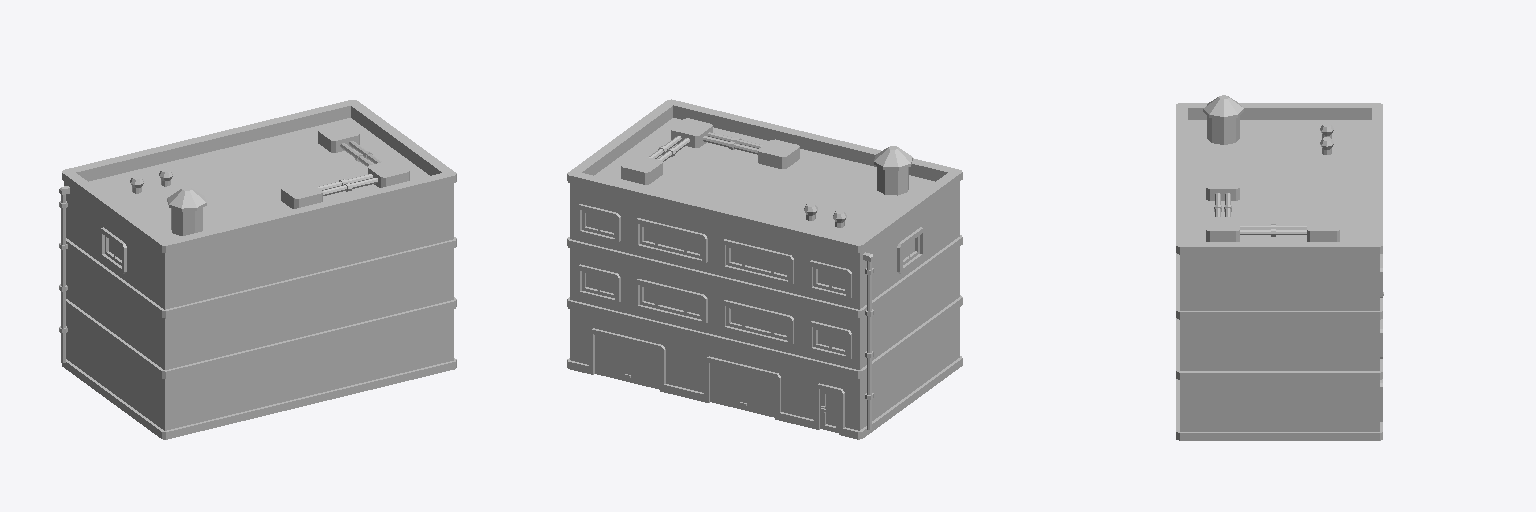
Rendered from industrial_building-a.obj.
3 renders of one model, left to right at view 1: azimuth 30°, elevation 25°; view 2: azimuth 150°, elevation 25°; view 3: azimuth 270°, elevation 25°, orthographic.
Parts seen in each view (by area): view 1: building-a; view 2: building-a; view 3: building-a.
Part boxes in pixels (x1,y1,x2,y2): building-a: (59, 100, 456, 439); building-a: (567, 99, 962, 439); building-a: (1176, 95, 1383, 440).
Size of the model in its own units: 2.08 by 1.47 by 1.24.